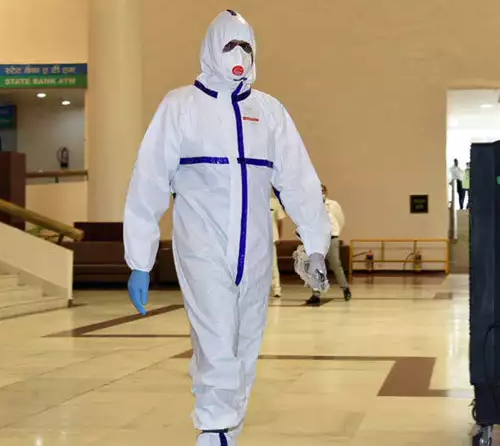Coverall: (122, 6, 334, 446)
Gloves: (125, 267, 153, 318)
with_mask: (220, 39, 254, 83)
